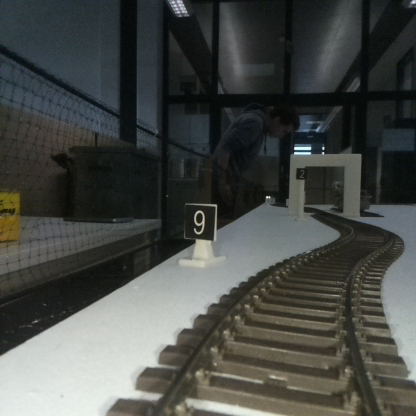black-info-2: (296, 168, 307, 220)
black-stop-9: (185, 203, 216, 263)
